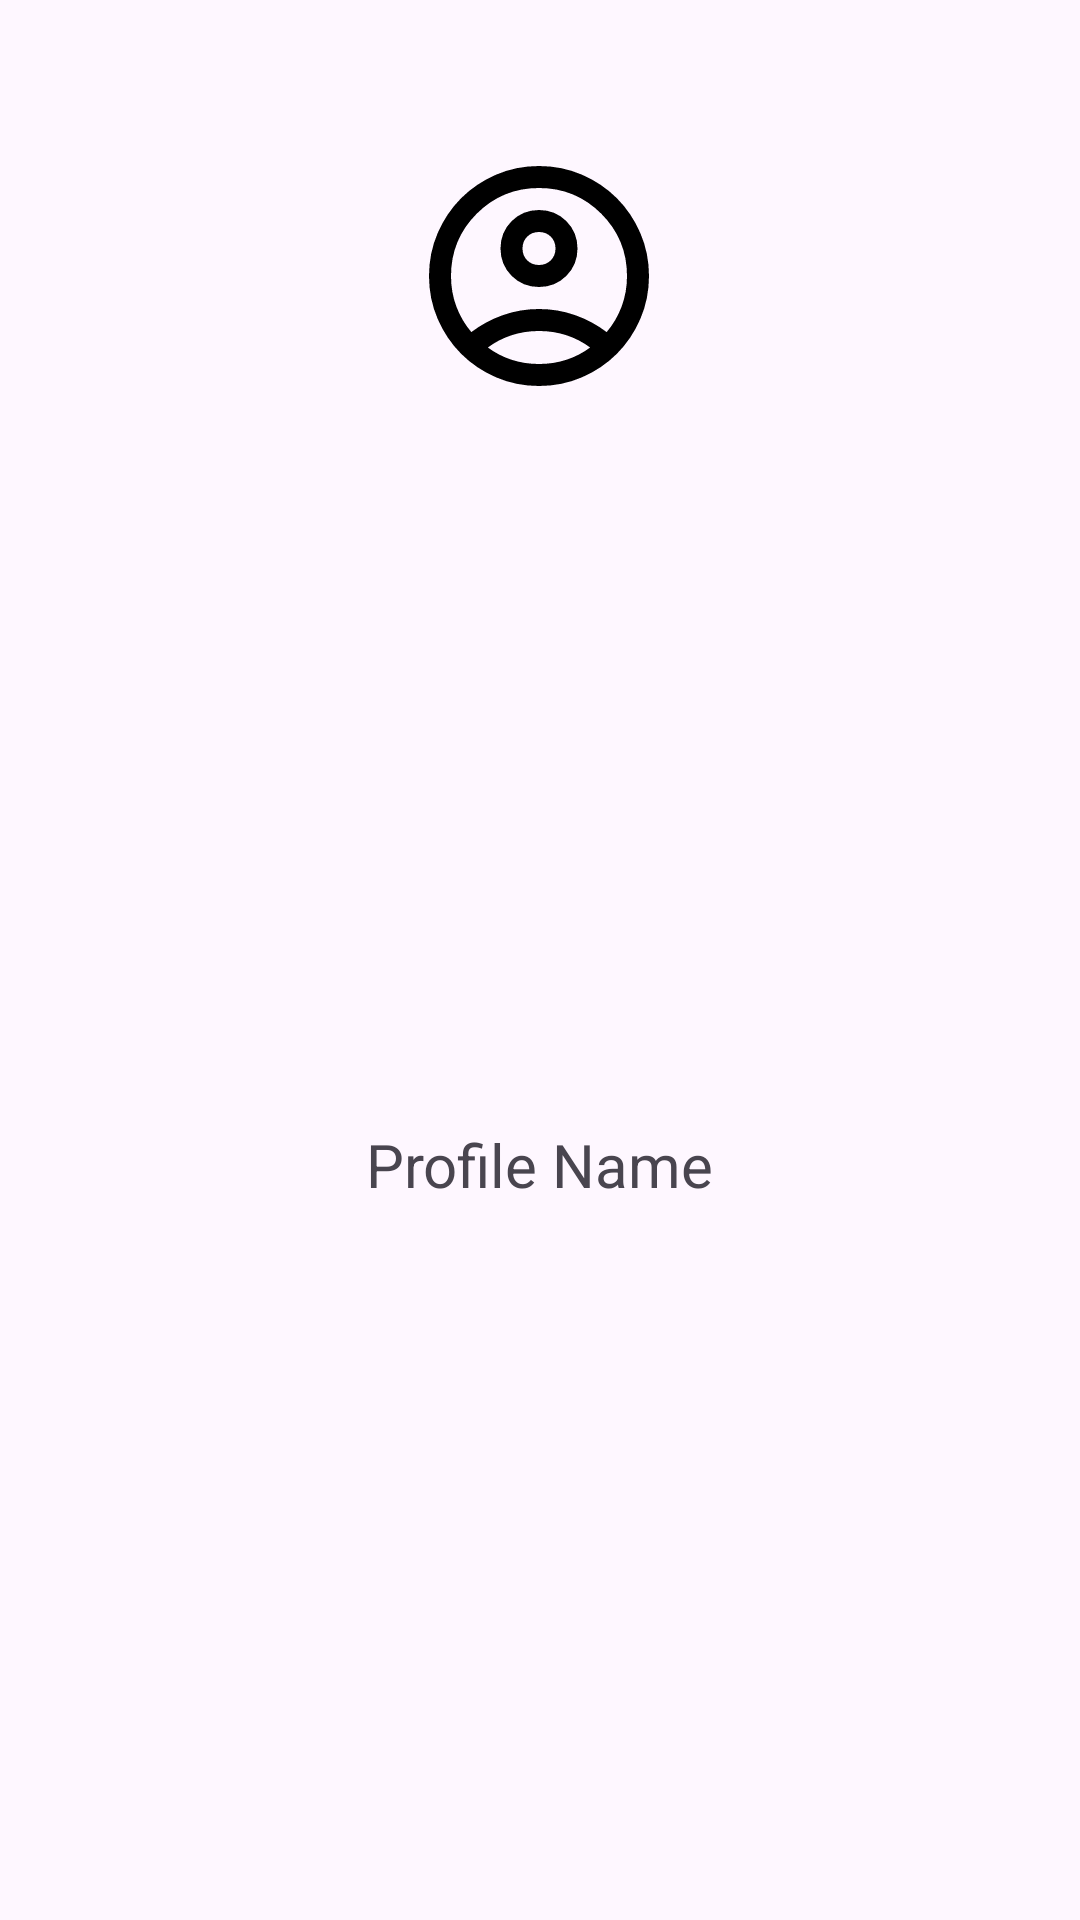

Locate icon controls on the screen. Image size 1080px x 1920px, boxes as (x1, y1, x2, y2).
account circle: (429, 166, 649, 386)
